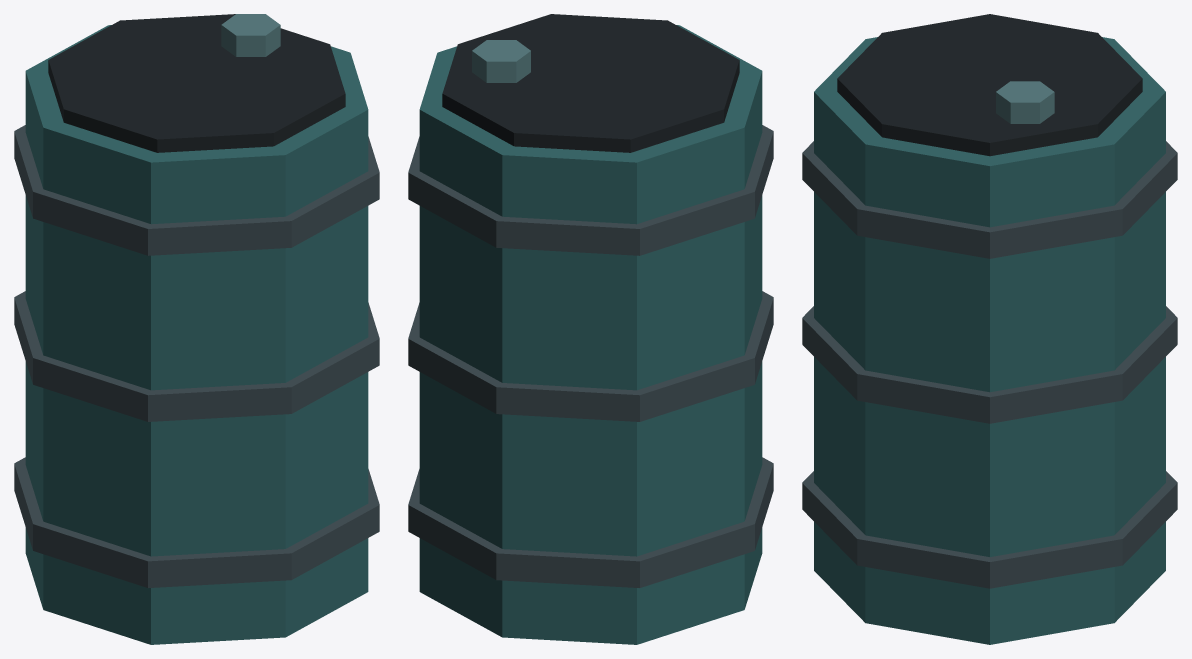
Rendered from Env_Barrel.fbx.
3 renders of one model, left to right at view 1: azimuth 30°, elevation 25°; view 2: azimuth 150°, elevation 25°; view 3: azimuth 270°, elevation 25°, orthographic.
Visible parts, largest first — view 1: Env_Barrel; view 2: Env_Barrel; view 3: Env_Barrel.
Part boxes in pixels (bbox=[...]): Env_Barrel: bbox=[14, 14, 379, 644]; Env_Barrel: bbox=[408, 14, 773, 644]; Env_Barrel: bbox=[802, 14, 1177, 644].
Bounding box in the file's own units: 0.64 × 0.64 × 0.965.
